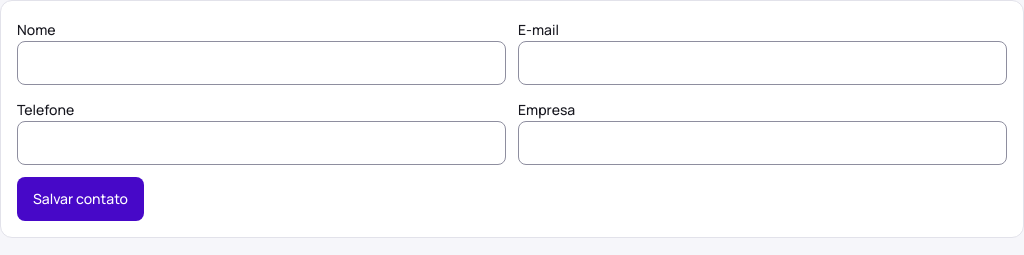
it: formulário de contato › ignora submissão concorrente enquanto a primeira está pendente
Type "Maria" into the field labelled "Nome".
click(262, 63); type("Maria")  # box [17,41,506,85]
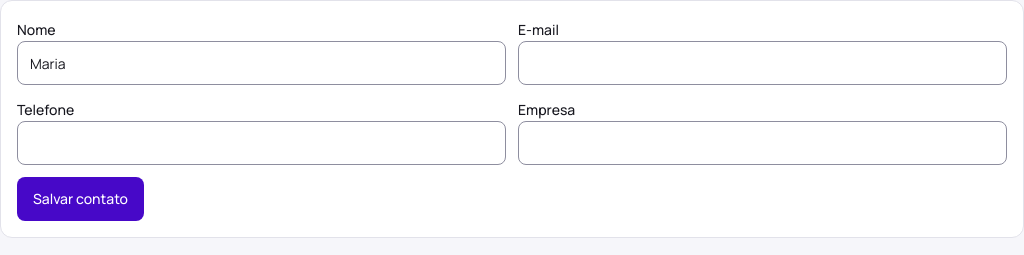
Submit the form "Nome E-mail Telefone Empresa Salvar contato"
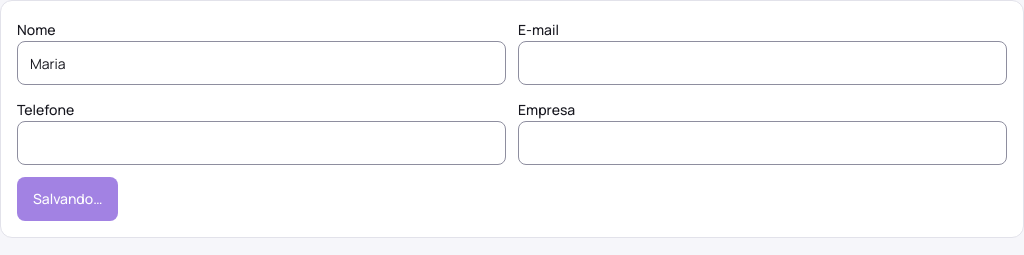
Submit the form named "salvar contato"
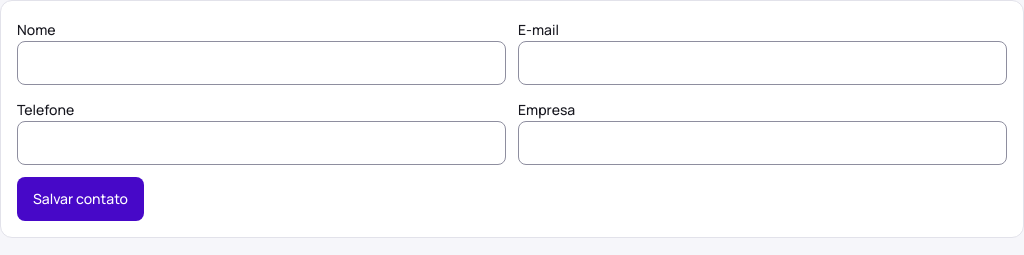
Expected: the button "Salvar contato" is enabled, [17,177,144,221]
